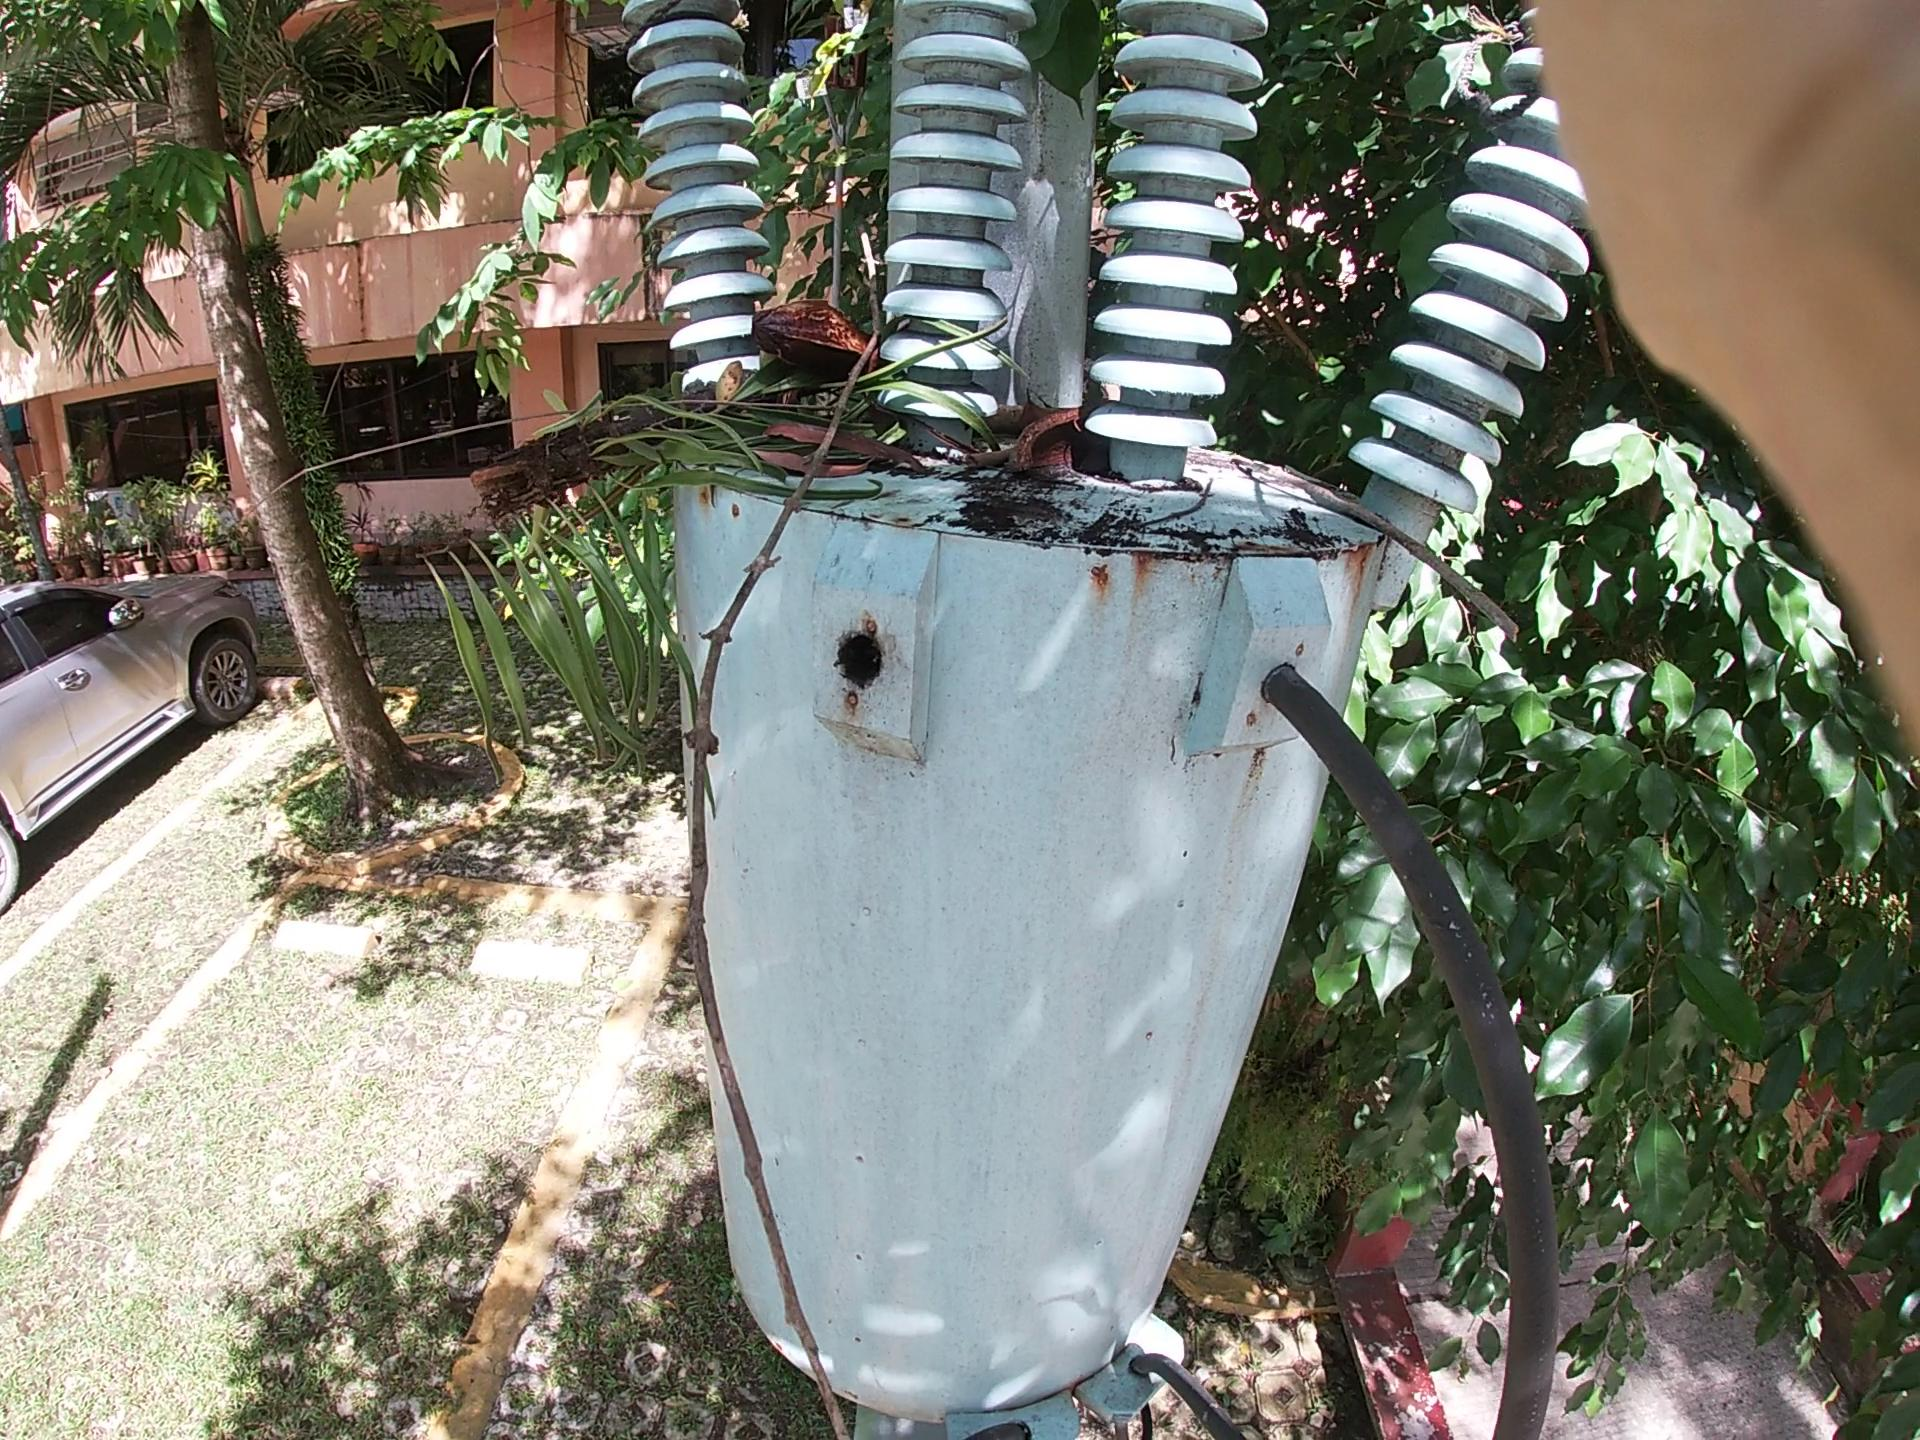branch with leaves: (301, 281, 1175, 800)
leaf: (611, 2, 1265, 275)
mahogany fruit: (745, 265, 958, 399), (1048, 417, 1128, 517)
tree branch: (608, 222, 821, 1417), (1166, 421, 1563, 700), (869, 280, 1092, 537)
